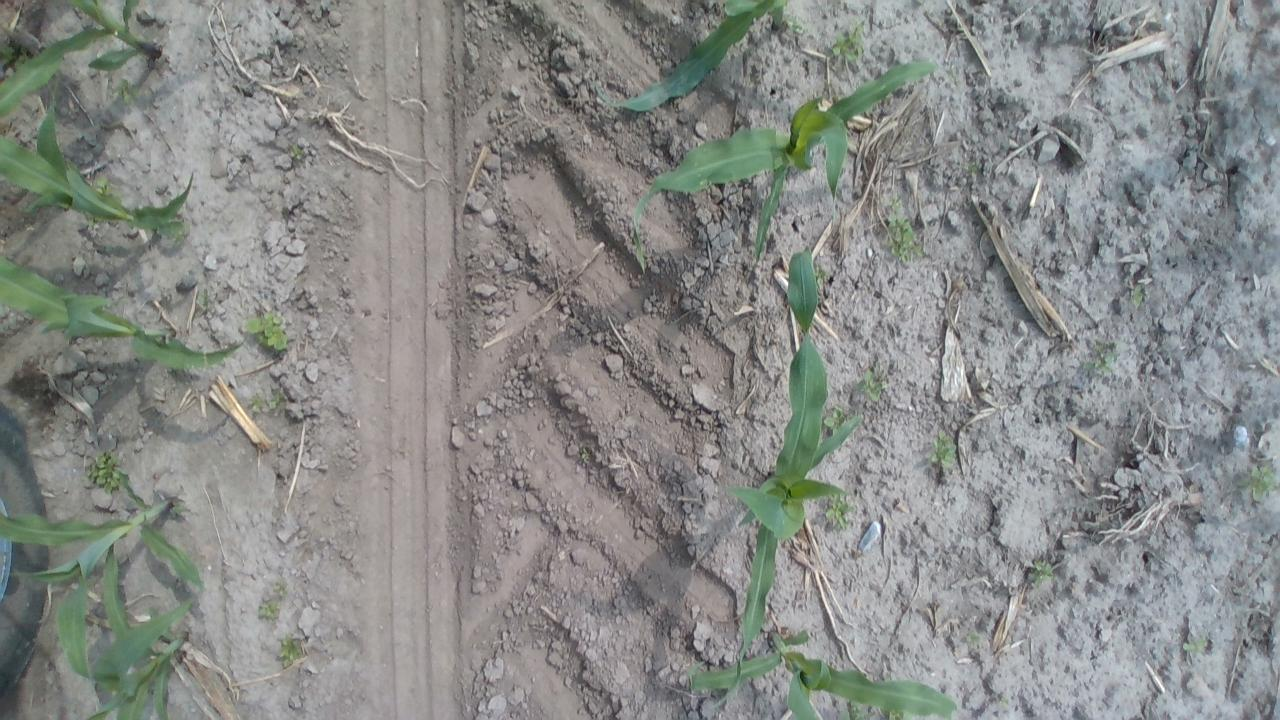Maize: (694, 250, 868, 709), (632, 55, 946, 282), (0, 466, 210, 682), (0, 72, 196, 241), (0, 246, 246, 374), (669, 622, 977, 720), (591, 0, 794, 113), (0, 0, 171, 122), (74, 591, 207, 720)
Weeds: (881, 194, 925, 262), (242, 310, 294, 354), (82, 446, 128, 495), (1235, 461, 1279, 508), (823, 16, 867, 63), (255, 574, 292, 627), (246, 384, 292, 422), (841, 701, 917, 720), (822, 492, 856, 530), (1022, 556, 1056, 590), (1086, 341, 1119, 374), (927, 430, 957, 466), (276, 633, 304, 670), (819, 405, 852, 435), (857, 368, 886, 402), (1180, 630, 1214, 655), (112, 80, 138, 103), (287, 141, 312, 162), (1128, 282, 1148, 308), (90, 175, 111, 198), (812, 262, 832, 286), (956, 160, 984, 176), (964, 628, 982, 646)
